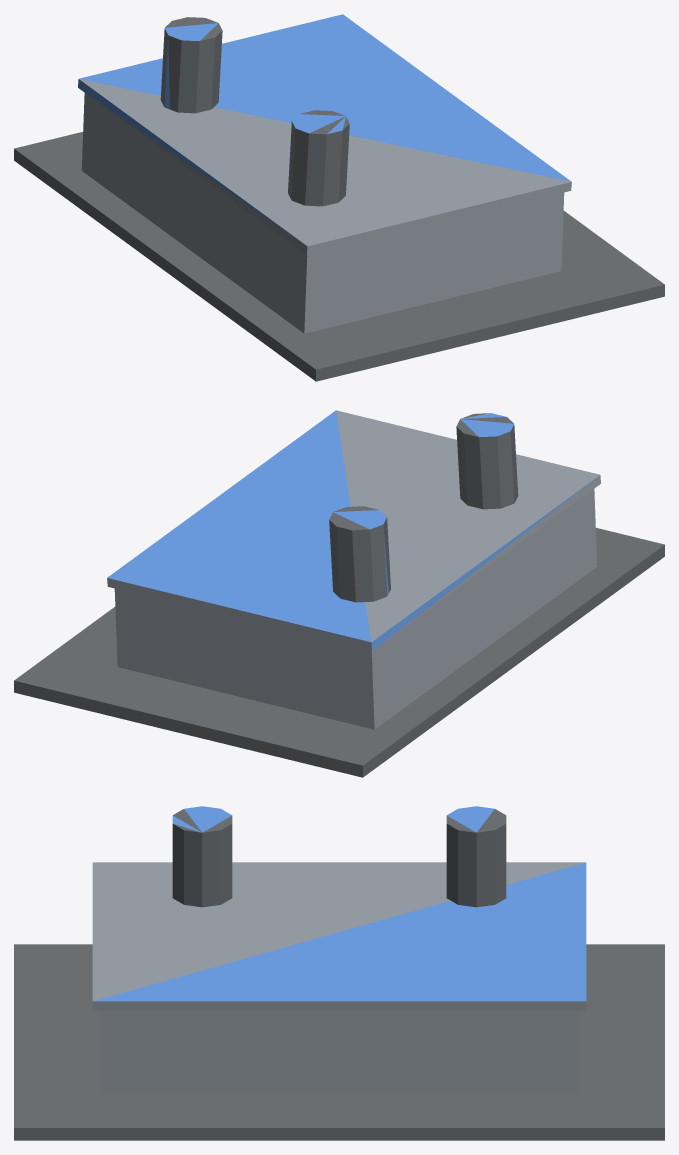
File: veyran_power_plant_heavily_damaged.glb
The picture shows the model from 3 angles, top to bottom: view 1: azimuth 30°, elevation 25°; view 2: azimuth 150°, elevation 25°; view 3: azimuth 270°, elevation 25°; orthographic projection. The views are drawn at different scales.
Parts seen in each view (by area): view 1: hull; view 2: hull; view 3: hull.
Part boxes in pixels (bbox=[...]): hull: bbox=[14, 14, 664, 381]; hull: bbox=[14, 410, 664, 777]; hull: bbox=[14, 806, 664, 1140].
Bounding box in the file's own units: 7.6 × 3.6 × 11.4.
